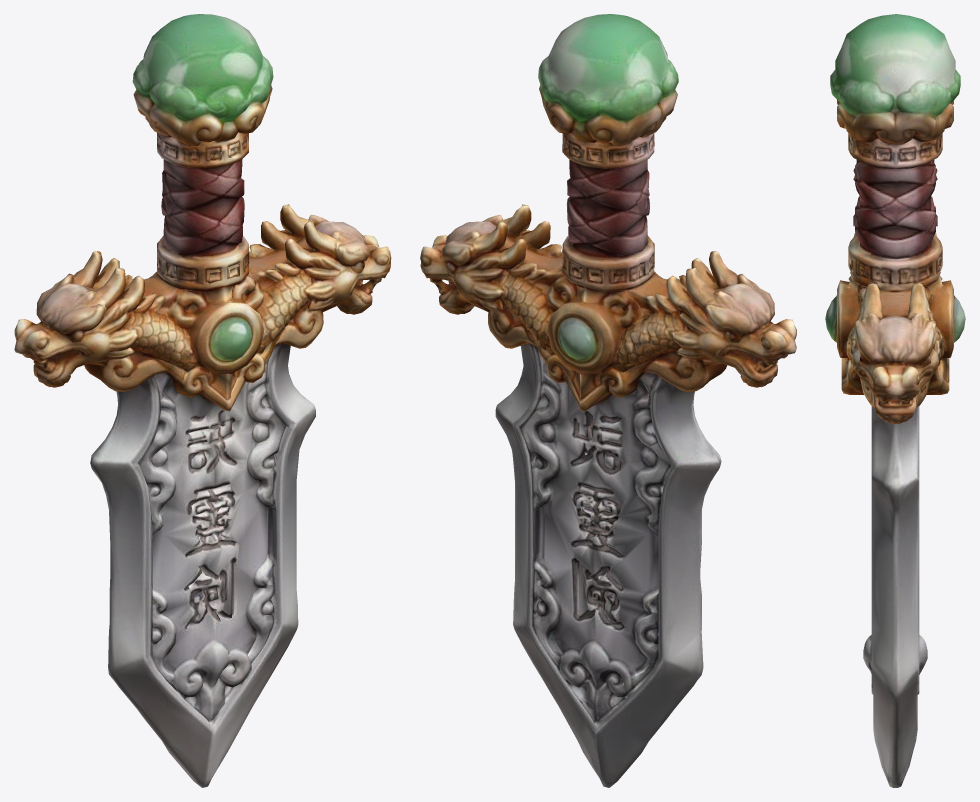
File: pp_gsword2.glb
3 views of the same model, side by side, from view 1: azimuth 30°, elevation 25°; view 2: azimuth 150°, elevation 25°; view 3: azimuth 270°, elevation 25° (orthographic).
Visible parts, largest first — view 1: tripo_node_92332fa2-f3e4-4db7-9a81-85bcfb1760c6; view 2: tripo_node_92332fa2-f3e4-4db7-9a81-85bcfb1760c6; view 3: tripo_node_92332fa2-f3e4-4db7-9a81-85bcfb1760c6.
Part boxes in pixels (x1=…): tripo_node_92332fa2-f3e4-4db7-9a81-85bcfb1760c6: x1=14, y1=14, x2=391, y2=787; tripo_node_92332fa2-f3e4-4db7-9a81-85bcfb1760c6: x1=420, y1=14, x2=796, y2=787; tripo_node_92332fa2-f3e4-4db7-9a81-85bcfb1760c6: x1=825, y1=14, x2=965, y2=787.
Bounding box in the file's own units: 0.4992 × 0.9774 × 0.1626.
1 material, 1 textured.
